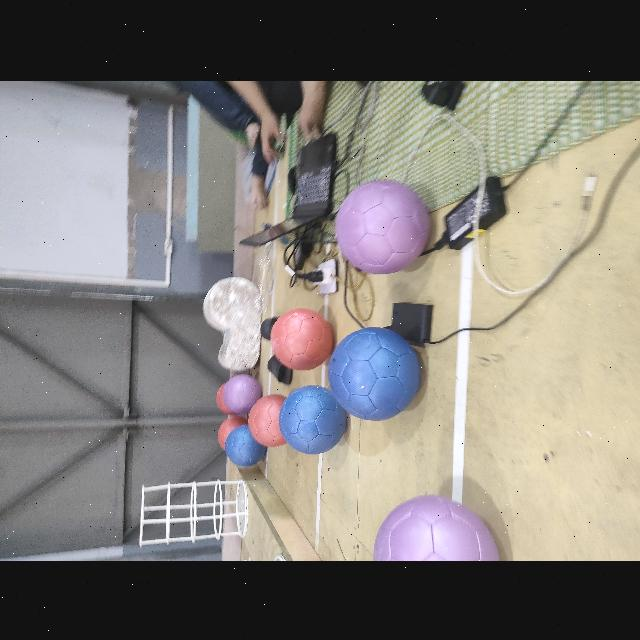B: (328, 326, 419, 419), (278, 382, 348, 452), (226, 424, 266, 466)
P: (335, 179, 429, 273), (374, 494, 501, 560), (222, 373, 262, 413)
R: (270, 307, 334, 368), (248, 393, 288, 445), (218, 415, 246, 449), (216, 383, 232, 415)
S: (136, 477, 254, 541), (136, 554, 290, 560)
